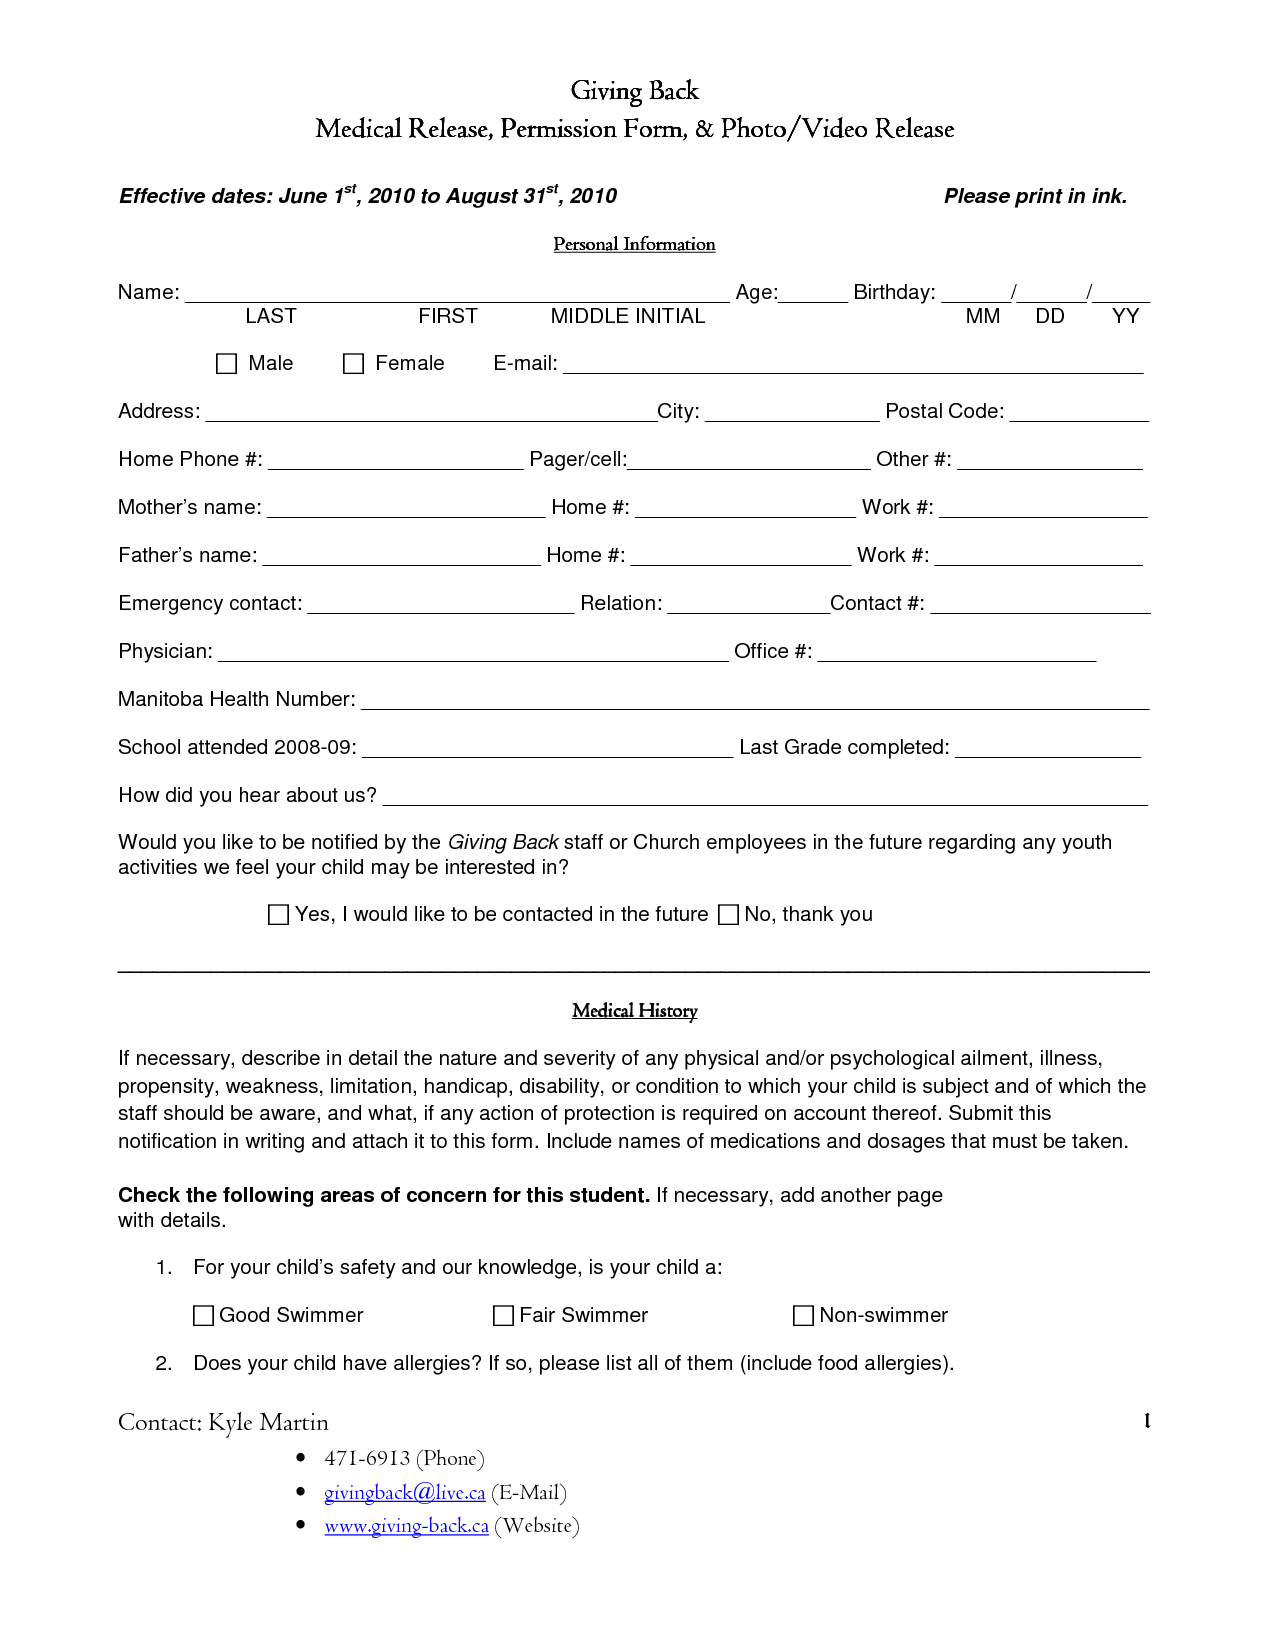checkbox: (333, 348, 374, 378), (782, 1299, 820, 1330), (486, 1298, 520, 1331), (206, 350, 242, 376), (264, 897, 293, 929), (190, 1298, 218, 1329), (717, 899, 742, 928)
textline: (375, 771, 1154, 814), (354, 674, 1156, 712), (554, 333, 1153, 379), (182, 262, 737, 311), (213, 627, 733, 670), (202, 387, 660, 431), (354, 725, 739, 766), (301, 573, 581, 617), (812, 629, 1101, 670), (258, 532, 546, 572), (260, 431, 530, 473), (927, 577, 1158, 625), (258, 483, 550, 521), (625, 434, 876, 475), (933, 482, 1154, 526), (621, 530, 858, 571), (629, 483, 864, 524), (944, 722, 1157, 763), (927, 533, 1154, 571), (660, 575, 834, 619), (702, 387, 887, 429), (1002, 387, 1153, 431), (954, 445, 1148, 475), (771, 271, 852, 309), (1017, 271, 1092, 307), (937, 269, 1010, 303), (1092, 269, 1154, 305)
